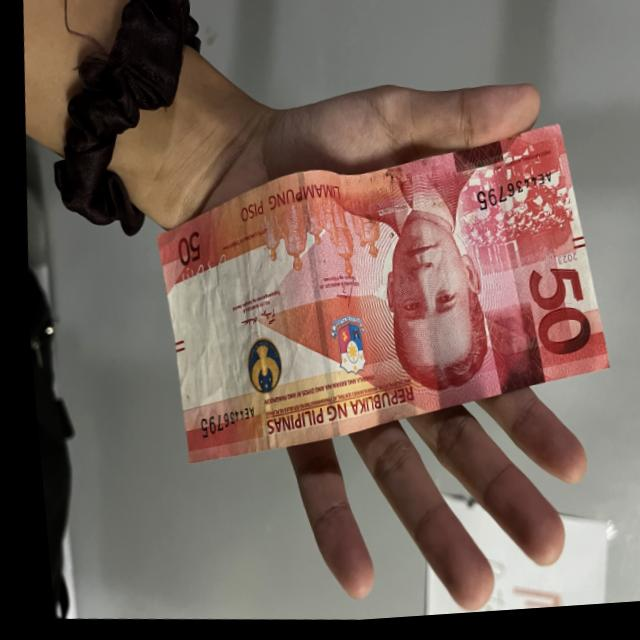concealed_value: (468, 300, 542, 402)
security_thread: (274, 171, 353, 444)
see_through_mark: (161, 239, 245, 304)
serial_number: (456, 165, 559, 233), (182, 397, 255, 456)
value: (514, 262, 588, 371)
